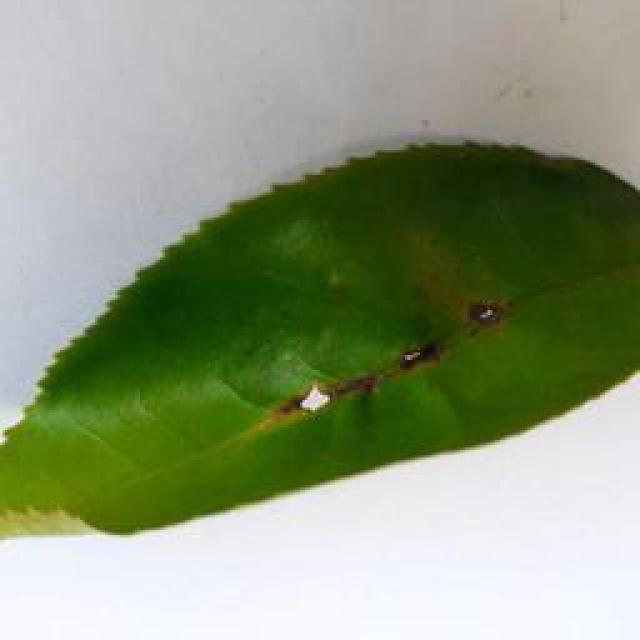Helopeltis: (0, 122, 640, 543)
